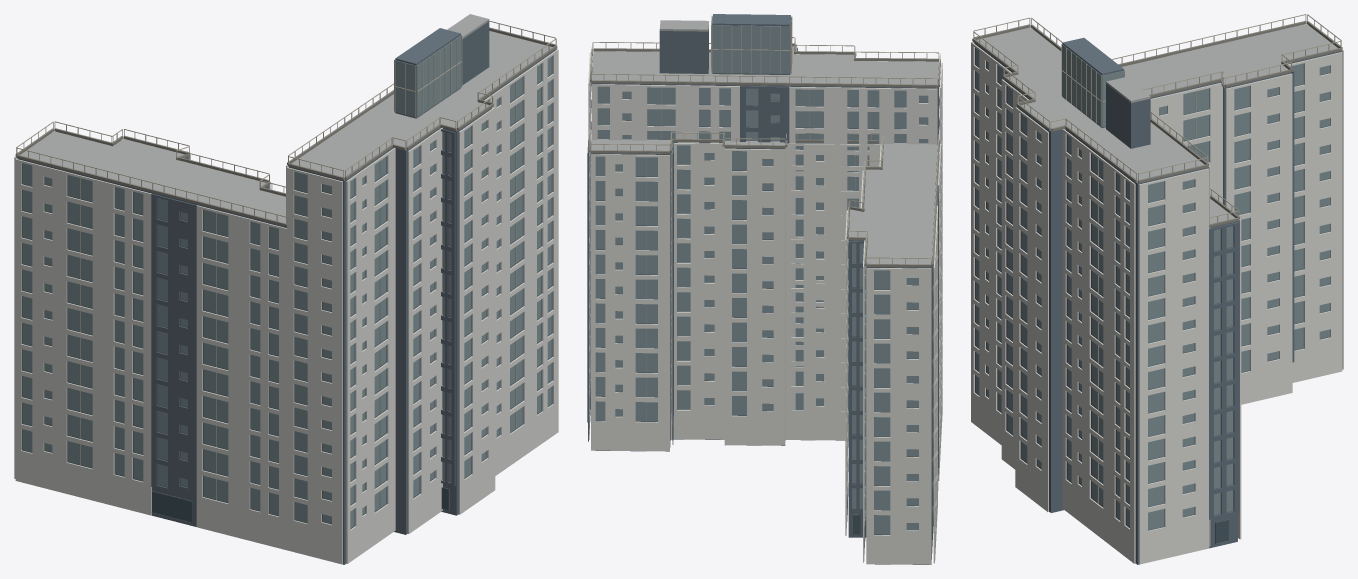
The model's file is bespoke-raemian-onebailey-111.glb.
3 views of the same model, side by side, from view 1: azimuth 30°, elevation 25°; view 2: azimuth 150°, elevation 25°; view 3: azimuth 270°, elevation 25° (orthographic). The views are drawn at different scales.
Visible parts, largest first — view 1: 111_pale_bays_navy_shafts_5, 111_pale_bays_navy_shafts_1, 111_editable_massing, 111_glass_roof_crown_4, 111_pale_bays_navy_shafts_3, 111_glass_roof_crown_1, 111_pale_bays_navy_shafts_2; view 2: 111_pale_bays_navy_shafts_5, 111_pale_bays_navy_shafts_1, 111_glass_roof_crown_4, 111_editable_massing, 111_glass_roof_crown_1, 111_pale_bays_navy_shafts_3; view 3: 111_pale_bays_navy_shafts_5, 111_pale_bays_navy_shafts_1, 111_editable_massing, 111_glass_roof_crown_4, 111_pale_bays_navy_shafts_3, 111_glass_roof_crown_1.
Boxes of the visible parts, x1=… form: 111_pale_bays_navy_shafts_5: x1=14, y1=32, x2=558, y2=564; 111_pale_bays_navy_shafts_1: x1=22, y1=35, x2=551, y2=528; 111_editable_massing: x1=17, y1=21, x2=555, y2=564; 111_glass_roof_crown_4: x1=20, y1=14, x2=552, y2=223; 111_pale_bays_navy_shafts_3: x1=16, y1=20, x2=556, y2=508; 111_glass_roof_crown_1: x1=15, y1=27, x2=557, y2=226; 111_pale_bays_navy_shafts_2: x1=152, y1=487, x2=449, y2=522; 111_pale_bays_navy_shafts_5: x1=588, y1=46, x2=942, y2=564; 111_pale_bays_navy_shafts_1: x1=590, y1=16, x2=939, y2=534; 111_glass_roof_crown_4: x1=591, y1=20, x2=938, y2=267; 111_editable_massing: x1=587, y1=14, x2=938, y2=564; 111_glass_roof_crown_1: x1=589, y1=43, x2=940, y2=267; 111_pale_bays_navy_shafts_3: x1=589, y1=16, x2=940, y2=421; 111_pale_bays_navy_shafts_5: x1=971, y1=24, x2=1343, y2=564; 111_pale_bays_navy_shafts_1: x1=976, y1=44, x2=1329, y2=530; 111_editable_massing: x1=974, y1=37, x2=1340, y2=564; 111_glass_roof_crown_4: x1=977, y1=24, x2=1337, y2=223; 111_pale_bays_navy_shafts_3: x1=973, y1=14, x2=1341, y2=503; 111_glass_roof_crown_1: x1=972, y1=21, x2=1342, y2=227.
Bounding box in the file's own units: 54.98 × 50.45 × 39.02.
